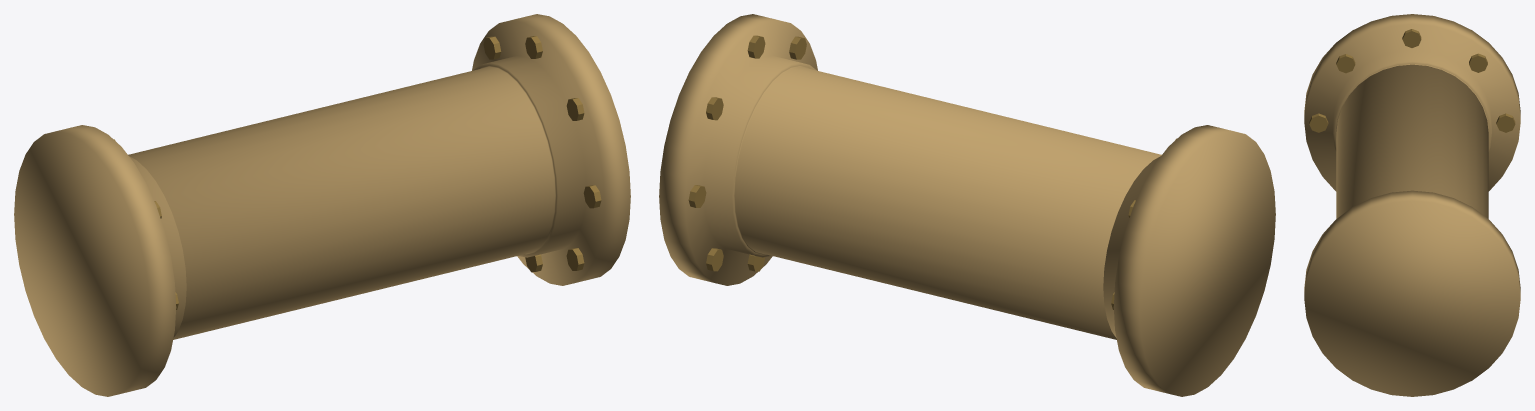
File: Tuyau-Court.fbx
The picture shows the model from 3 angles, left to right: view 1: azimuth 30°, elevation 25°; view 2: azimuth 150°, elevation 25°; view 3: azimuth 270°, elevation 25°; orthographic projection. The views are drawn at different scales.
Parts seen in each view (by area): view 1: Tuyau-Court; view 2: Tuyau-Court; view 3: Tuyau-Court.
Boxes of the visible parts, bbox=[...] form: Tuyau-Court: bbox=[14, 14, 630, 396]; Tuyau-Court: bbox=[659, 14, 1275, 396]; Tuyau-Court: bbox=[1304, 14, 1520, 396].
Size of the model in its own units: 1166 by 571 by 571.
